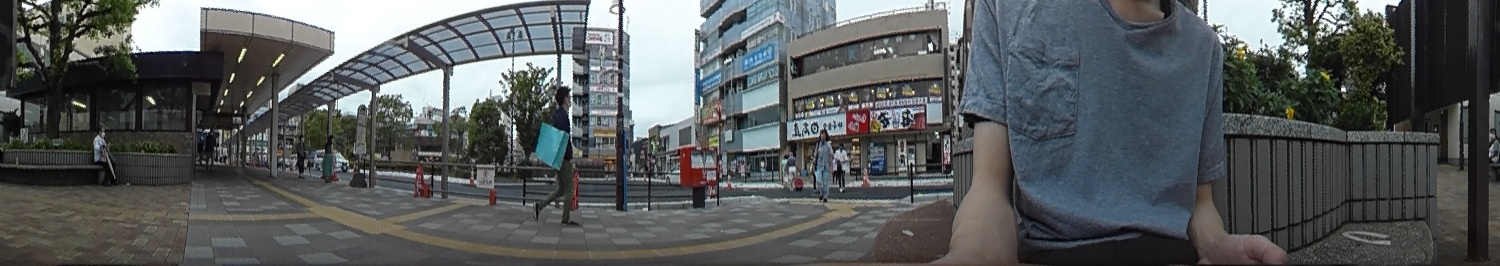difficult_person: (321, 135, 336, 180), (833, 141, 847, 186), (202, 127, 217, 168), (295, 133, 307, 180), (1488, 123, 1500, 162)
person: (542, 85, 581, 224), (811, 129, 833, 202), (93, 125, 116, 184)
